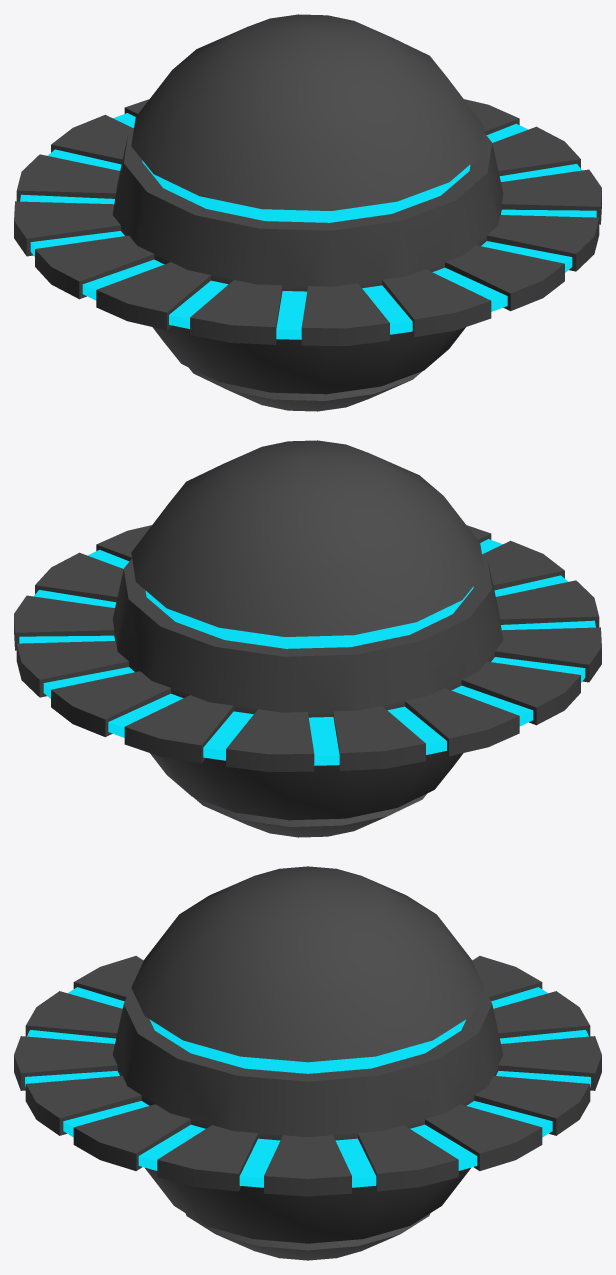
Rendered from Alvo.fbx.
The picture shows the model from 3 angles, top to bottom: view 1: azimuth 30°, elevation 25°; view 2: azimuth 150°, elevation 25°; view 3: azimuth 270°, elevation 25°; orthographic projection.
Parts seen in each view (by area): view 1: Sphere; view 2: Sphere; view 3: Sphere.
Boxes of the visible parts, box(x1,y1,x2,y2) form: Sphere: box(14, 14, 601, 411); Sphere: box(14, 440, 601, 837); Sphere: box(14, 866, 601, 1260).
Bounding box in the file's own units: 29.8 × 20 × 29.8.
